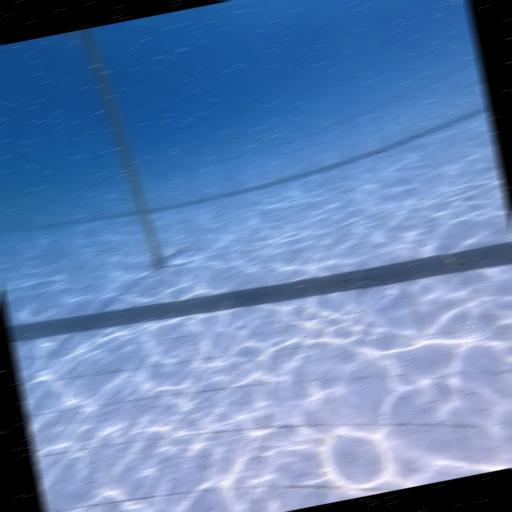pole_gate: (78, 18, 190, 272)
